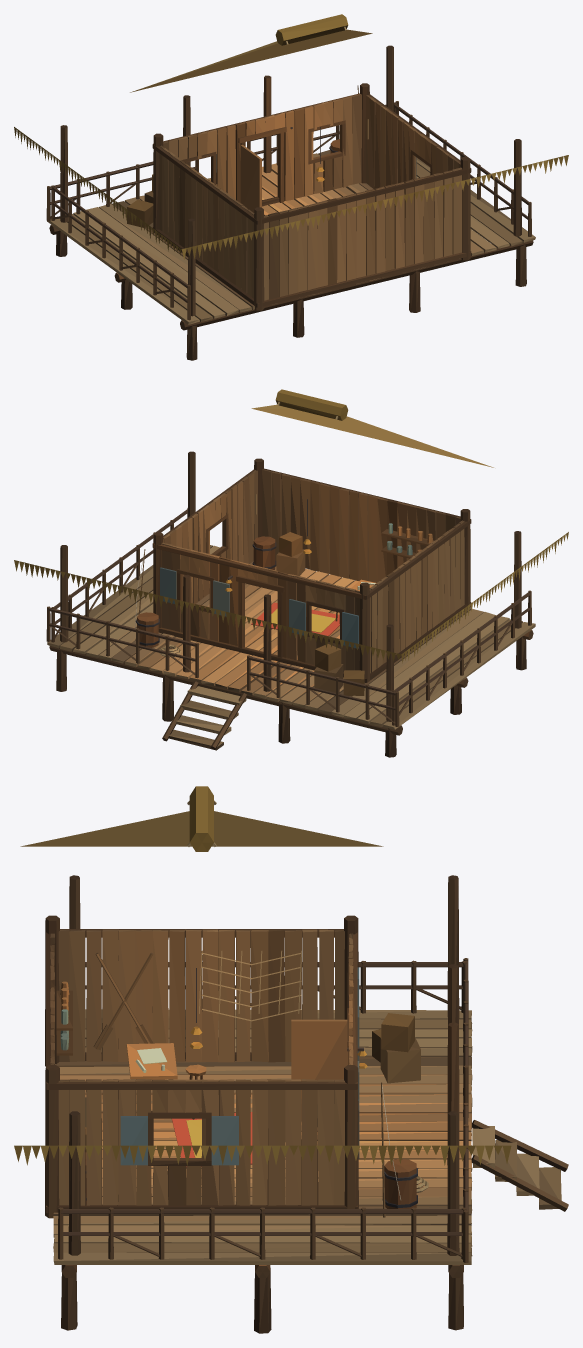
Rendered from hut-kit.glb.
3 views of the same model, one above another, from view 1: azimuth 30°, elevation 25°; view 2: azimuth 150°, elevation 25°; view 3: azimuth 270°, elevation 25° (orthographic). The views are drawn at different scales.
Visible parts, largest first — view 1: hut-kit; view 2: hut-kit; view 3: hut-kit.
Boxes of the visible parts, box(x1,y1,x2,y2) form: hut-kit: box(14, 14, 568, 360); hut-kit: box(14, 389, 568, 757); hut-kit: box(14, 786, 568, 1333).
Size of the model in its own units: 12 by 8.1 by 10.04.
